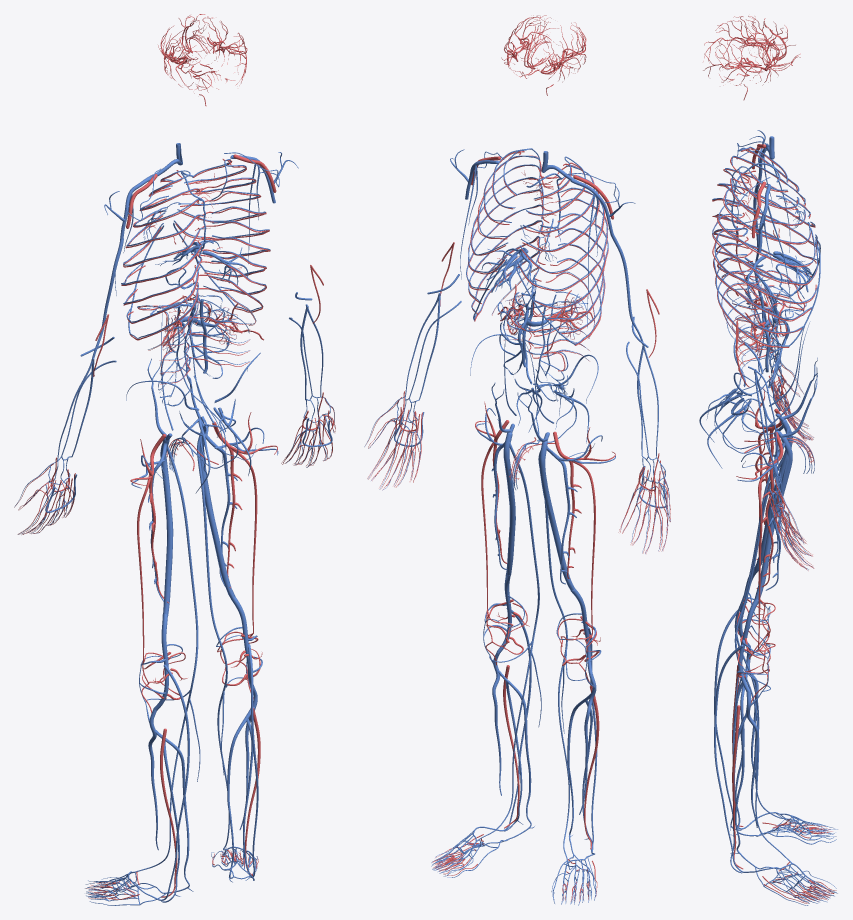
File: extended_circulatory_lod1.glb
The picture shows the model from 3 angles, left to right: view 1: azimuth 30°, elevation 25°; view 2: azimuth 150°, elevation 25°; view 3: azimuth 270°, elevation 25°; orthographic projection. The views are drawn at different scales.
Visible parts, largest first — view 1: FJ1985, FJ1994, FJ1961, FJ1975, FJ2103, FJ2145, FJ2102, FJ2144, FJ2121, FJ2176; view 2: FJ1985, FJ1994, FJ1975, FJ1961, FJ2145, FJ2103, FJ2102, FJ2144; view 3: FJ1994, FJ1961, FJ1985, FJ1975, FJ2145, FJ2144, FJ2103, FJ2176, FJ2121, FJ2102, FJ2203, FJ2197 (+7 smaller).
Part boxes in pixels (x1,y1,x2,y2): FJ1985: (121,170,205,349); FJ1994: (174,159,270,325); FJ1961: (175,178,270,325); FJ1975: (121,188,202,350); FJ2103: (134,446,200,872); FJ2145: (197,436,229,850); FJ2102: (160,438,173,616); FJ2144: (199,431,235,601); FJ2121: (145,664,189,900); FJ2176: (248,644,258,878); FJ1985: (516,156,608,344); FJ1994: (466,148,543,318); FJ1975: (518,165,608,345); FJ1961: (467,155,558,321); FJ2145: (479,442,541,838); FJ2103: (538,450,569,860); FJ2102: (539,441,575,593); FJ2144: (503,432,515,576); FJ1994: (712,166,818,350); FJ1961: (712,176,818,351); FJ1985: (712,146,818,303); FJ1975: (712,157,818,301); FJ2145: (734,450,791,863); FJ2144: (754,437,792,599); FJ2103: (734,428,791,819); FJ2176: (714,644,754,872); FJ2121: (714,609,754,829); FJ2102: (754,419,792,571); FJ2203: (756,432,783,588); FJ2197: (732,705,743,869).
Size of the model in its own units: 64.88 by 171 by 25.36.
